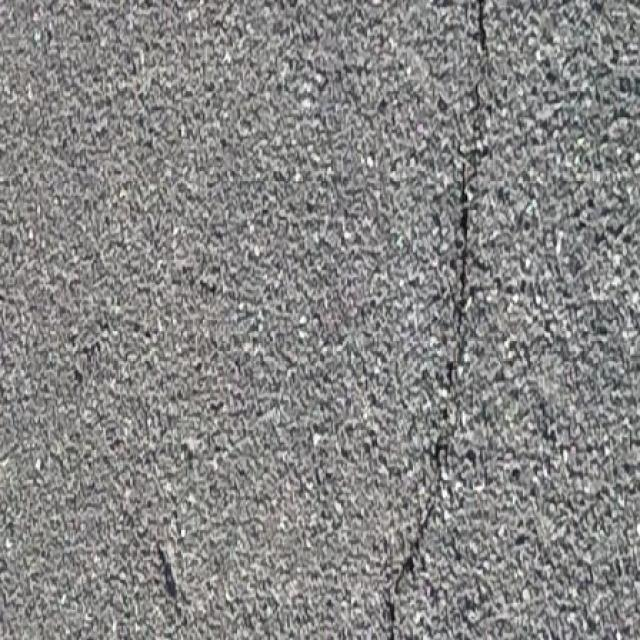Vertical Crack: (381, 5, 491, 640)
